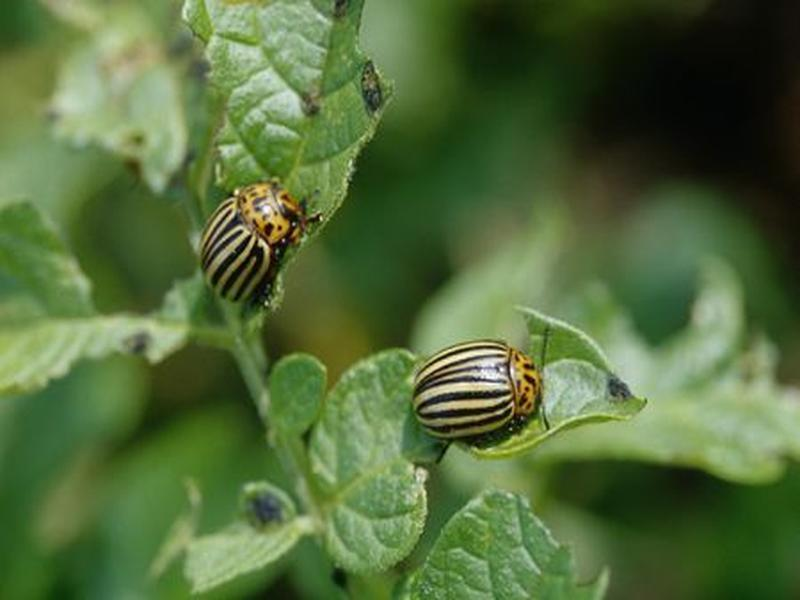hrosc: (197, 175, 321, 326), (401, 323, 556, 442)
